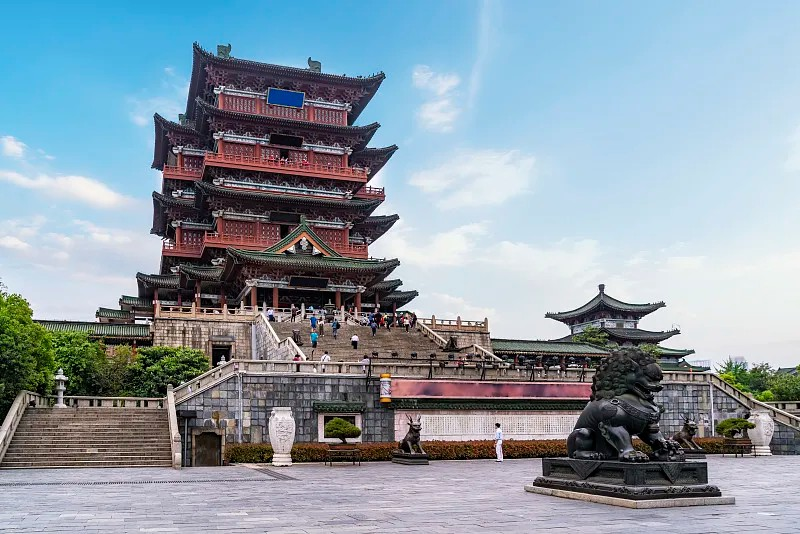Teng: (96, 43, 419, 322)
